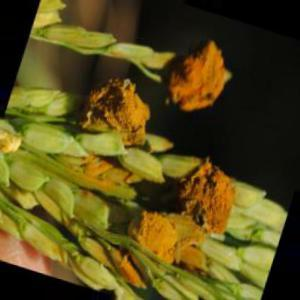Leaf_Scald: (91, 87, 149, 148), (177, 46, 225, 114), (138, 211, 198, 261), (187, 171, 230, 232), (78, 146, 118, 194), (111, 248, 136, 286)
